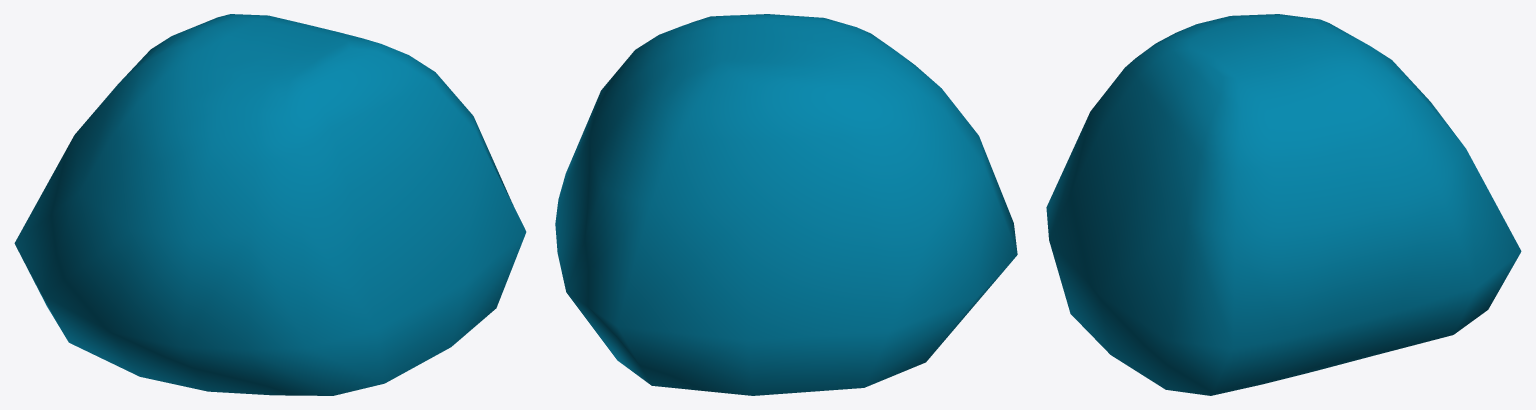
File: Flag_03.fbx
The picture shows the model from 3 angles, left to right: view 1: azimuth 30°, elevation 25°; view 2: azimuth 150°, elevation 25°; view 3: azimuth 270°, elevation 25°; orthographic projection. The views are drawn at different scales.
Parts seen in each view (by area): view 1: Flag_03; view 2: Flag_03; view 3: Flag_03.
Boxes of the visible parts, x1=… form: Flag_03: x1=14, y1=14, x2=526, y2=395; Flag_03: x1=555, y1=14, x2=1017, y2=395; Flag_03: x1=1046, y1=14, x2=1521, y2=395.
Bounding box in the file's own units: 46.68 × 26.8 × 44.47.
